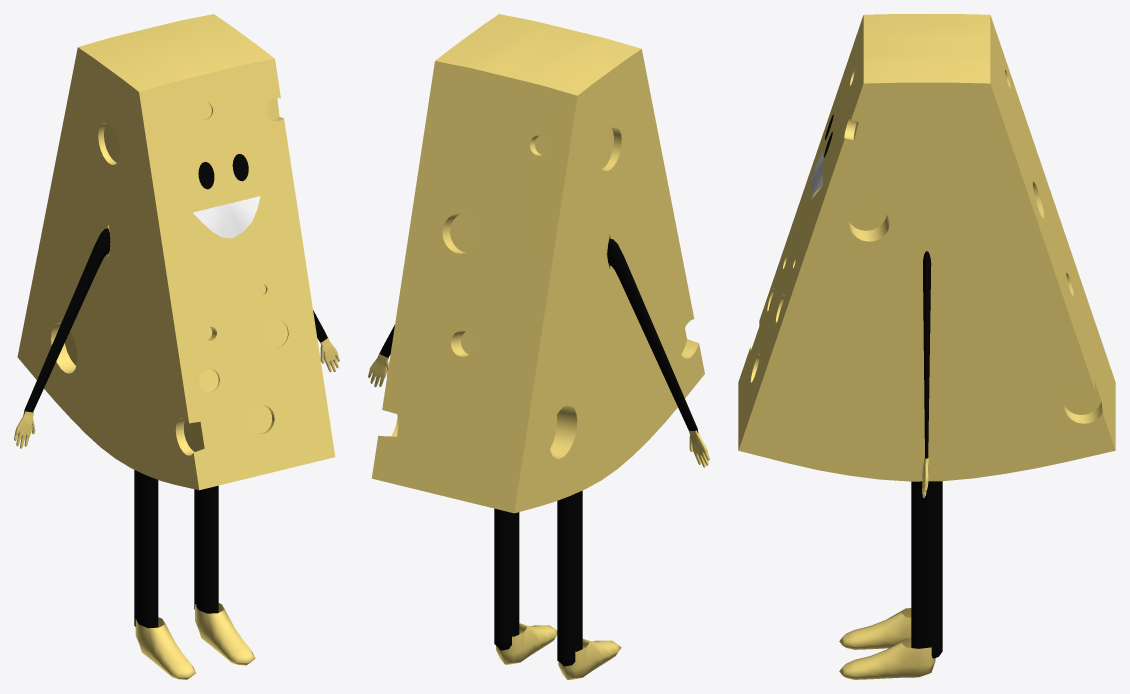
File: cheese.fbx
3 views of the same model, side by side, from view 1: azimuth 30°, elevation 25°; view 2: azimuth 150°, elevation 25°; view 3: azimuth 270°, elevation 25° (orthographic). The views are drawn at different scales.
Parts seen in each view (by area): view 1: head, polySurface8, polySurface7, polySurface5, shoe, shoe1, mouth, hand; view 2: head, polySurface8, polySurface7, polySurface5, shoe1, shoe, hand; view 3: head, polySurface7, shoe1, shoe, polySurface4.
Boxes of the visible parts, <box> form: head: <box>17,14,335,490</box>; polySurface8: <box>134,470,158,628</box>; polySurface7: <box>194,485,218,613</box>; polySurface5: <box>24,228,110,413</box>; shoe: <box>135,617,195,679</box>; shoe1: <box>195,603,255,665</box>; mouth: <box>193,196,260,238</box>; hand: <box>14,337,339,448</box>; head: <box>371,14,704,513</box>; polySurface8: <box>557,490,582,666</box>; polySurface7: <box>494,508,519,650</box>; polySurface5: <box>607,238,698,432</box>; shoe1: <box>496,623,557,664</box>; shoe: <box>558,638,621,679</box>; hand: <box>368,352,709,467</box>; head: <box>738,14,1115,481</box>; polySurface7: <box>911,481,942,658</box>; shoe1: <box>839,638,935,679</box>; shoe: <box>839,608,911,649</box>; polySurface4: <box>923,251,931,458</box>.
Bounding box in the file's own units: 2.28 × 3.98 × 2.2.
